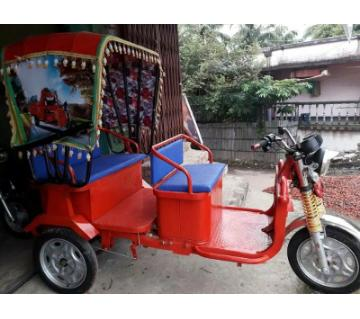Rickshaw: (7, 33, 354, 290)
